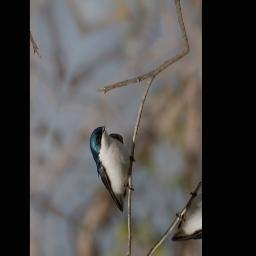Swallow: (74, 120, 148, 217)
